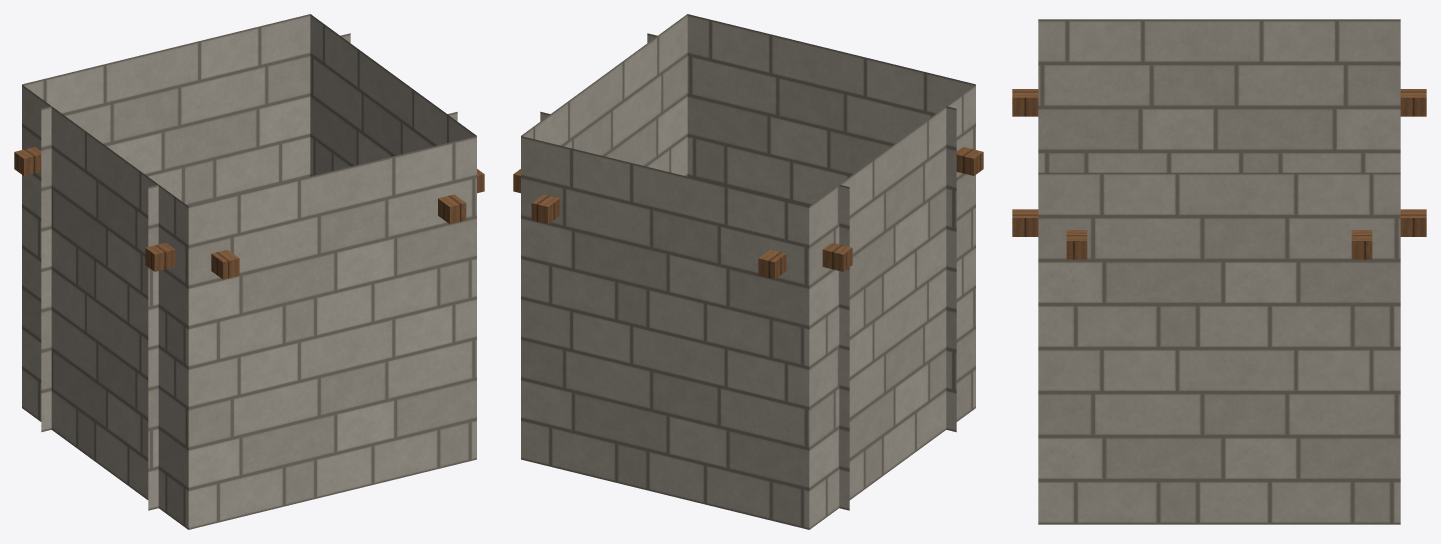
Rendered from Tower_Mid_Inline.fbx.
The picture shows the model from 3 angles, left to right: view 1: azimuth 30°, elevation 25°; view 2: azimuth 150°, elevation 25°; view 3: azimuth 270°, elevation 25°; orthographic projection. The views are drawn at different scales.
Parts seen in each view (by area): view 1: Tower_Mid_Inline; view 2: Tower_Mid_Inline; view 3: Tower_Mid_Inline.
Boxes of the visible parts, box(x1,y1,x2,y2) form: Tower_Mid_Inline: box(14, 14, 484, 529); Tower_Mid_Inline: box(513, 14, 983, 529); Tower_Mid_Inline: box(1012, 19, 1426, 524).
Bounding box in the file's own units: 3.2 × 3 × 3.2.
Materials: 2 (2 with a texture image).
